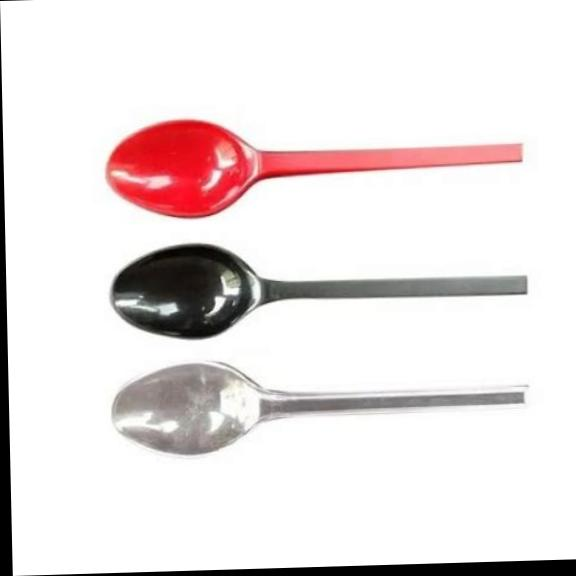Plastik: (108, 120, 521, 217), (111, 244, 527, 337), (113, 363, 525, 454)
